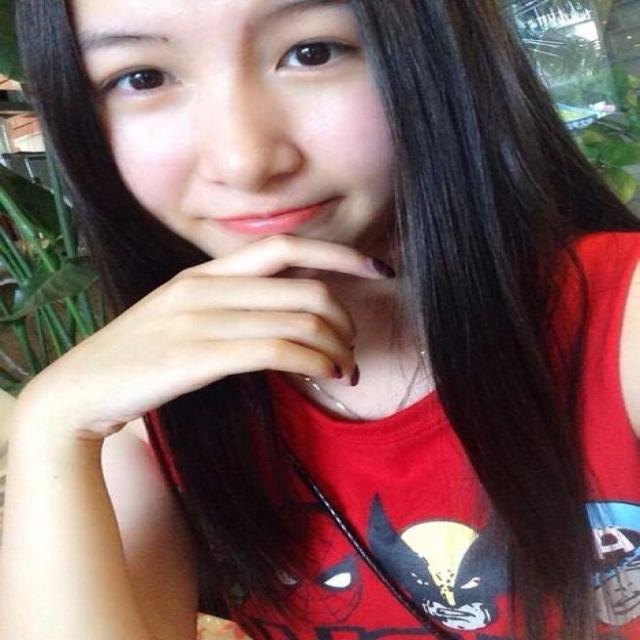vest: (122, 238, 637, 636)
